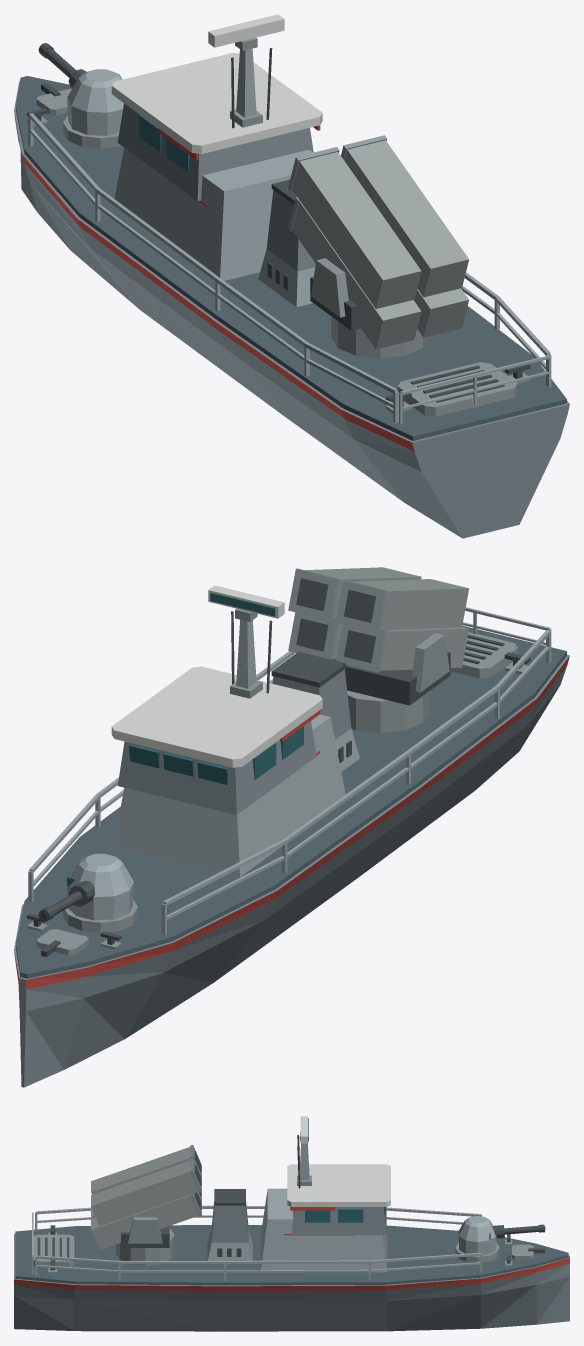
The model's file is EnemyMissileBoat.fbx.
The picture shows the model from 3 angles, top to bottom: view 1: azimuth 30°, elevation 25°; view 2: azimuth 150°, elevation 25°; view 3: azimuth 270°, elevation 25°; orthographic projection. The views are drawn at different scales.
Parts seen in each view (by area): view 1: MissileBoatHull_HardChineShell, MissileBoatHull_InsetContinuousDeck, CorvetteBridge_SupportedDeckHouse, CorvetteBridge_OverhangingRoof, MissileContainer_03, MissileContainer_04, CorvetteBridge_Wheelhouse, MissileContainer_01, MissileBoatBowGun_ArmouredTurret, SternEngineAccess_RaisedCover, MissileContainer_02, MissileBoatFunnel_Stack (+10 smaller); view 2: MissileBoatHull_HardChineShell, MissileBoatHull_InsetContinuousDeck, CorvetteBridge_SupportedDeckHouse, CorvetteBridge_OverhangingRoof, CorvetteBridge_Wheelhouse, MissileContainer_03, MissileBoatBowGun_ArmouredTurret, LauncherBasePedestal, MissileContainer_01, LauncherRotatingYoke, MissileBoatFunnel_Stack, MissileBoatFunnel_ExhaustCap (+20 smaller); view 3: MissileBoatHull_HardChineShell, MissileBoatHull_InsetContinuousDeck, CorvetteBridge_SupportedDeckHouse, CorvetteBridge_OverhangingRoof, MissileContainer_04, MissileContainer_02, CorvetteBridge_Wheelhouse, MissileContainer_03, MissileBoatFunnel_Stack, MissileBoatBowGun_ArmouredTurret, SternEngineAccess_RaisedCover, LauncherBasePedestal (+17 smaller).
Part boxes in pixels (x1,y1,x2,y2): MissileBoatHull_HardChineShell: (14, 81, 569, 538); MissileBoatHull_InsetContinuousDeck: (16, 76, 566, 440); CorvetteBridge_SupportedDeckHouse: (114, 148, 312, 280); CorvetteBridge_OverhangingRoof: (111, 53, 322, 153); MissileContainer_03: (292, 152, 421, 308); MissileContainer_04: (344, 140, 468, 297); CorvetteBridge_Wheelhouse: (117, 103, 313, 201); MissileContainer_01: (292, 201, 421, 349); MissileBoatBowGun_ArmouredTurret: (67, 69, 123, 135); SternEngineAccess_RaisedCover: (397, 362, 517, 416); MissileContainer_02: (414, 288, 468, 337); MissileBoatFunnel_Stack: (266, 190, 315, 271); MissileBoatHull_HardChineShell: (14, 655, 569, 1087); MissileBoatHull_InsetContinuousDeck: (16, 625, 566, 978); CorvetteBridge_SupportedDeckHouse: (113, 714, 345, 876); CorvetteBridge_OverhangingRoof: (111, 666, 322, 767); CorvetteBridge_Wheelhouse: (117, 721, 316, 814); MissileContainer_03: (352, 579, 469, 630); MissileBoatBowGun_ArmouredTurret: (67, 853, 133, 920); LauncherBasePedestal: (347, 690, 429, 733); MissileContainer_01: (380, 627, 468, 670); LauncherRotatingYoke: (332, 651, 450, 705); MissileBoatFunnel_Stack: (272, 669, 351, 739); MissileBoatFunnel_ExhaustCap: (271, 651, 346, 687); MissileBoatHull_HardChineShell: (14, 1233, 569, 1331); MissileBoatHull_InsetContinuousDeck: (15, 1225, 568, 1285); CorvetteBridge_SupportedDeckHouse: (260, 1188, 387, 1272); CorvetteBridge_OverhangingRoof: (287, 1164, 390, 1206); MissileContainer_04: (91, 1161, 198, 1225); MissileContainer_02: (91, 1195, 198, 1249); CorvetteBridge_Wheelhouse: (291, 1207, 386, 1234); MissileContainer_03: (91, 1147, 190, 1194); MissileBoatFunnel_Stack: (211, 1201, 248, 1242); MissileBoatBowGun_ArmouredTurret: (458, 1216, 496, 1254); SternEngineAccess_RaisedCover: (33, 1234, 74, 1266); LauncherBasePedestal: (116, 1228, 174, 1265).
Bounding box in the file's own units: 202 × 309 × 800.
